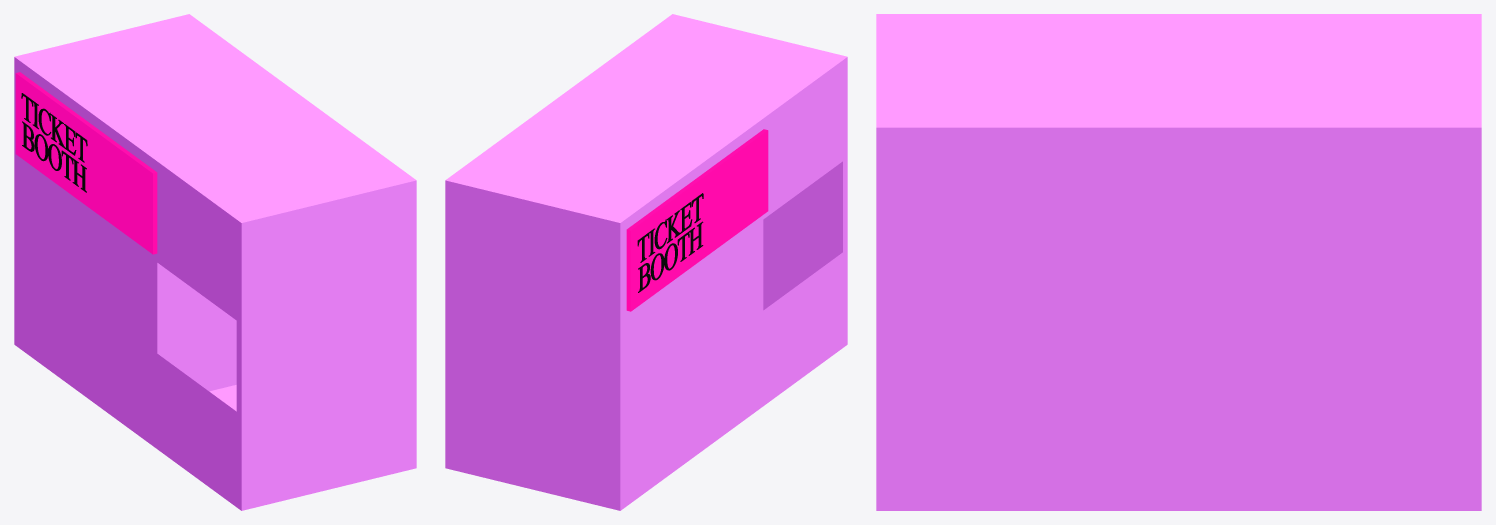
File: TicketBooth.gltf
3 renders of one model, left to right at view 1: azimuth 30°, elevation 25°; view 2: azimuth 150°, elevation 25°; view 3: azimuth 270°, elevation 25°, orthographic. The views are drawn at different scales.
Visible parts, largest first — view 1: Ticket Booth-Grey, Ticket Booth-Red shadow_1, Ticket Booth-Pure Black_1; view 2: Ticket Booth-Grey, Ticket Booth-Red shadow_1, Ticket Booth-Pure Black_1; view 3: Ticket Booth-Grey.
Part boxes in pixels (x1=…): Ticket Booth-Grey: x1=14, y1=14, x2=416, y2=510; Ticket Booth-Red shadow_1: x1=15, y1=72, x2=157, y2=254; Ticket Booth-Pure Black_1: x1=21, y1=93, x2=87, y2=192; Ticket Booth-Grey: x1=445, y1=14, x2=847, y2=510; Ticket Booth-Red shadow_1: x1=626, y1=129, x2=768, y2=311; Ticket Booth-Pure Black_1: x1=637, y1=193, x2=703, y2=292; Ticket Booth-Grey: x1=876, y1=14, x2=1481, y2=510.
Bounding box in the file's own units: 219 × 333 × 477.
